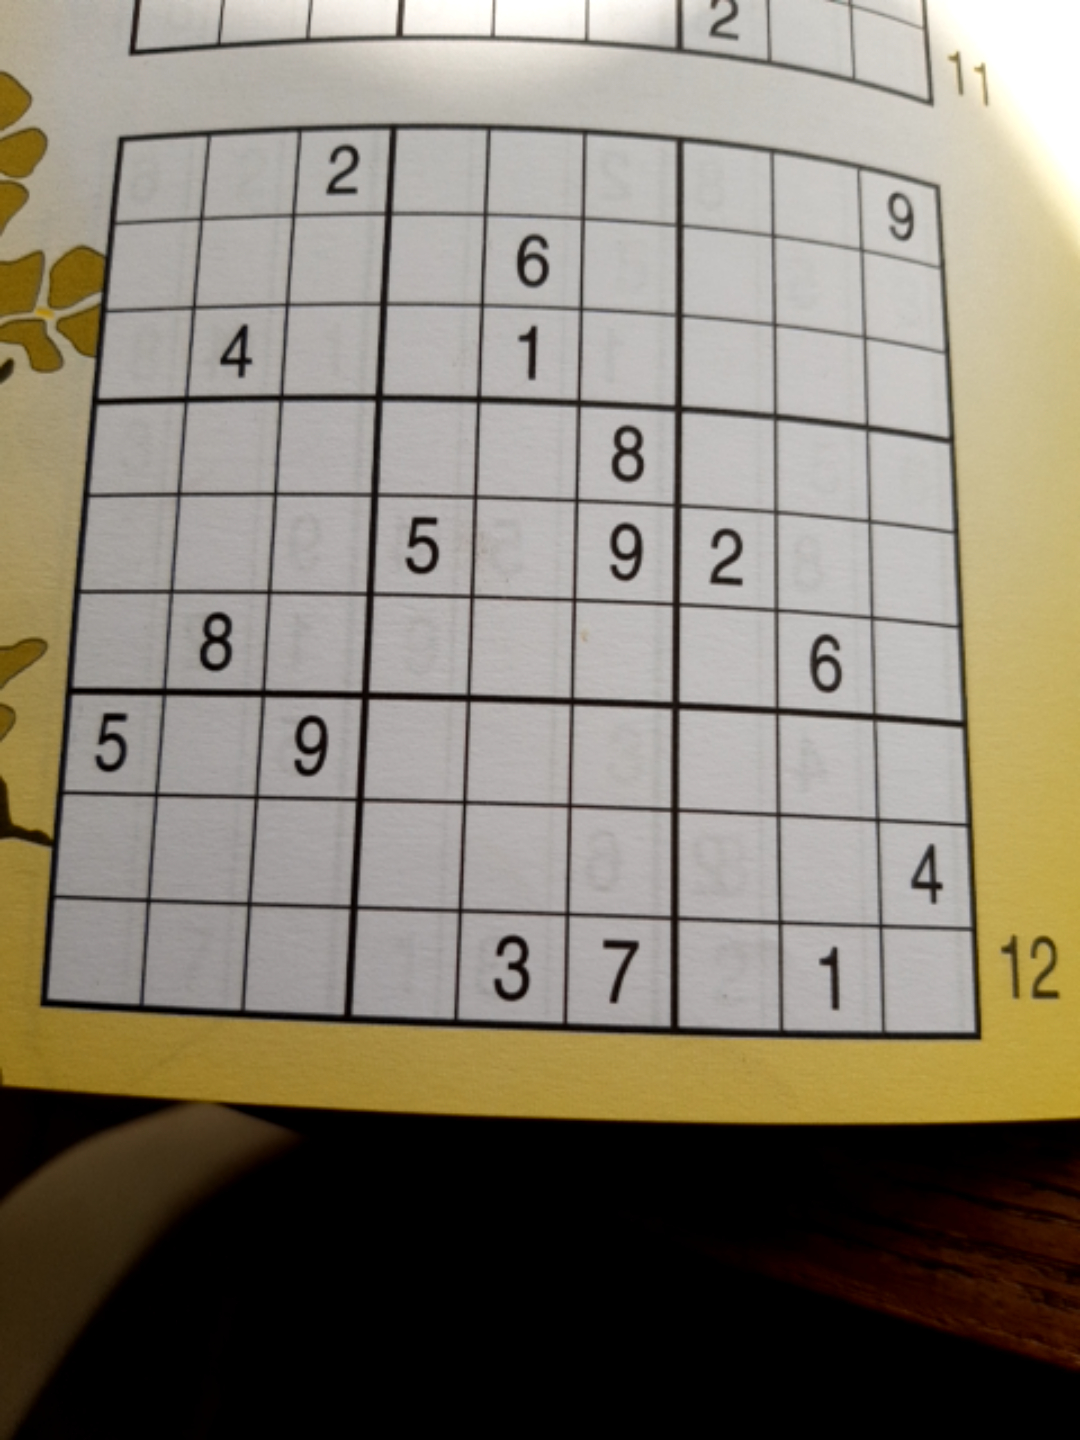sudoku: (41, 121, 981, 1046)
